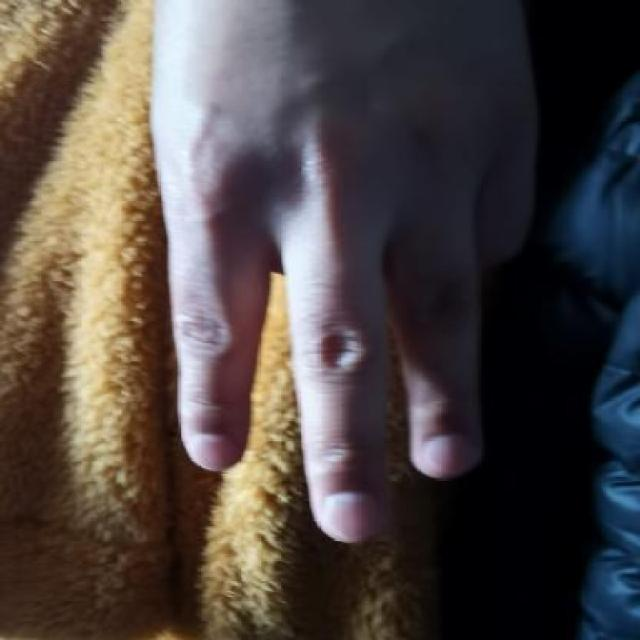M: (133, 2, 589, 541)
